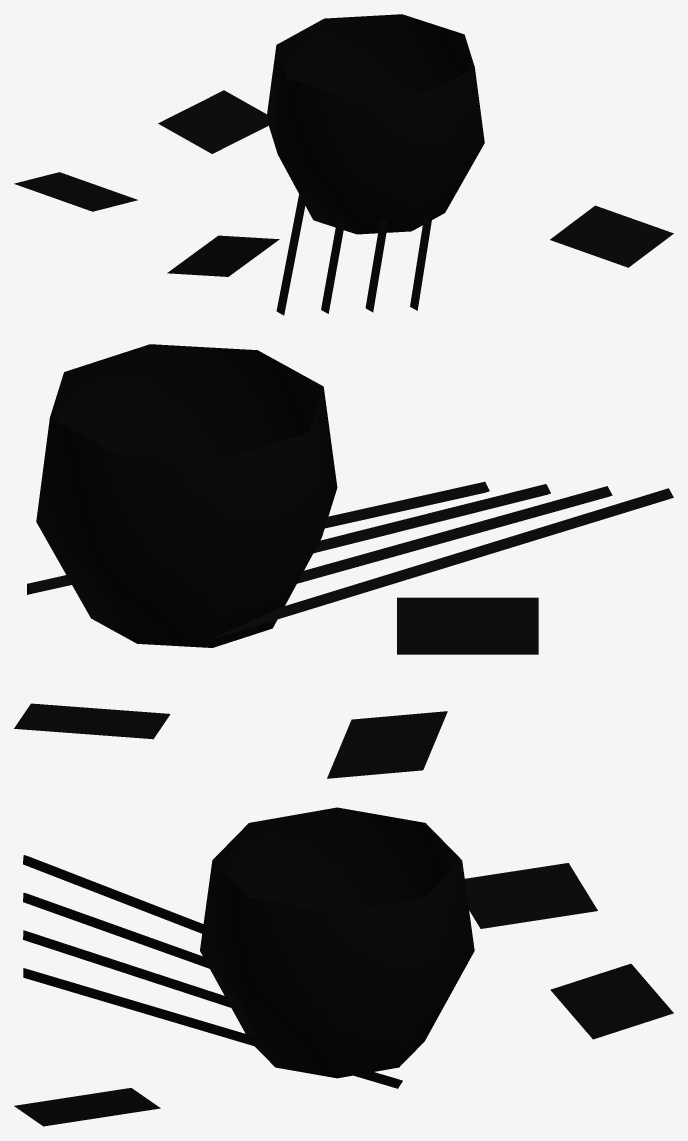
Rendered from SM_vase_broken.fbx.
3 views of the same model, one above another, from view 1: azimuth 30°, elevation 25°; view 2: azimuth 150°, elevation 25°; view 3: azimuth 270°, elevation 25° (orthographic). The views are drawn at different scales.
Parts seen in each view (by area): view 1: vase_broken; view 2: vase_broken; view 3: vase_broken.
Part boxes in pixels (x1,y1,x2,y2): vase_broken: [14, 14, 673, 315]; vase_broken: [14, 344, 673, 778]; vase_broken: [14, 807, 673, 1126].
Size of the model in its own units: 0.499 by 0.16 by 0.5283.
